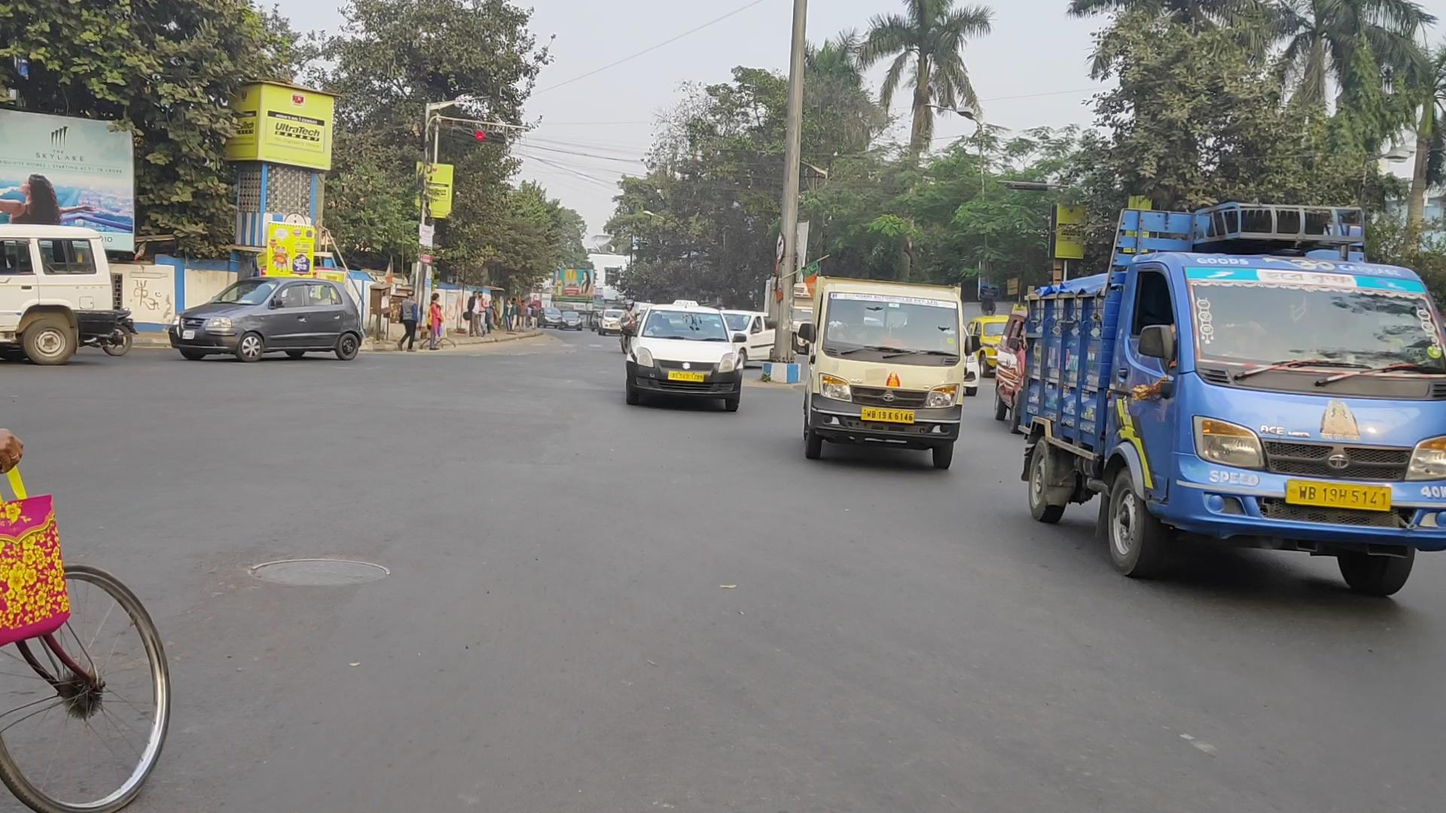car: (1, 222, 119, 365), (169, 276, 364, 362), (625, 300, 743, 413), (721, 308, 793, 366)
van: (1018, 202, 1446, 598), (802, 275, 968, 470)
